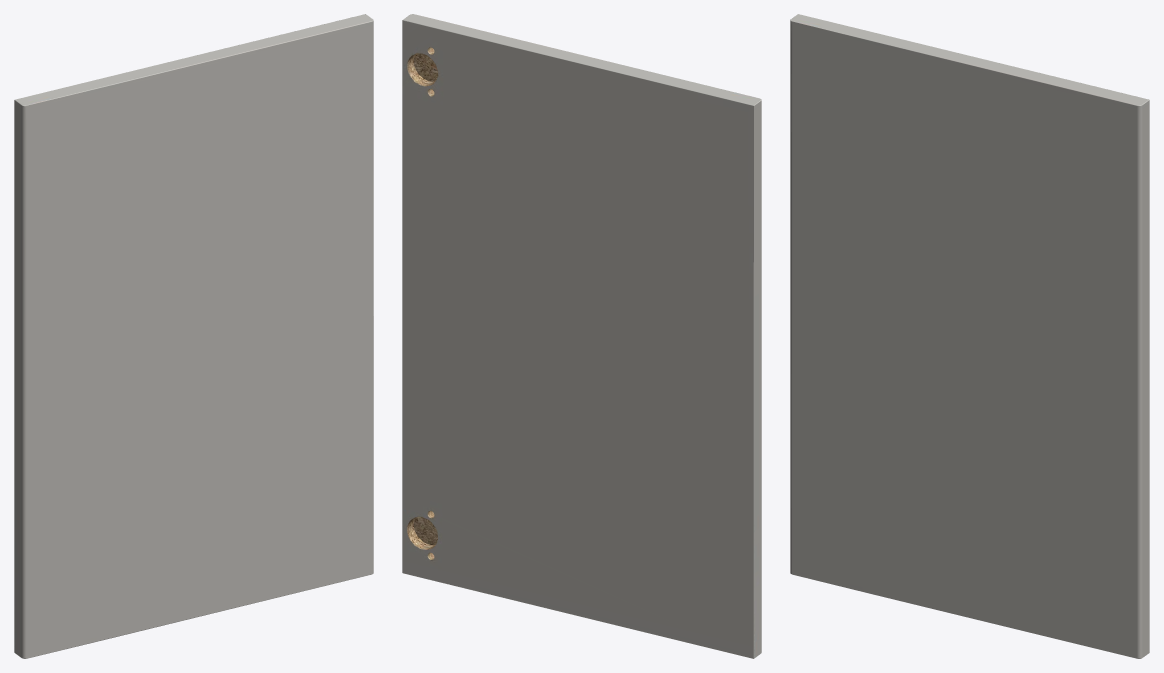
The model's file is RINGHULT Porte brillant gris clair 40x60 cm.glb.
3 renders of one model, left to right at view 1: azimuth 30°, elevation 25°; view 2: azimuth 150°, elevation 25°; view 3: azimuth 330°, elevation 25°, orthographic.
Parts seen in each view (by area): view 1: model; view 2: model; view 3: model.
Boxes of the visible parts, left/top/right/bottom form: model: left=14, top=14, right=373, bottom=658; model: left=402, top=14, right=761, bottom=658; model: left=790, top=14, right=1149, bottom=658.
Size of the model in its own units: 0.3971 by 0.597 by 0.018.
Materials: 1 (1 with a texture image).
